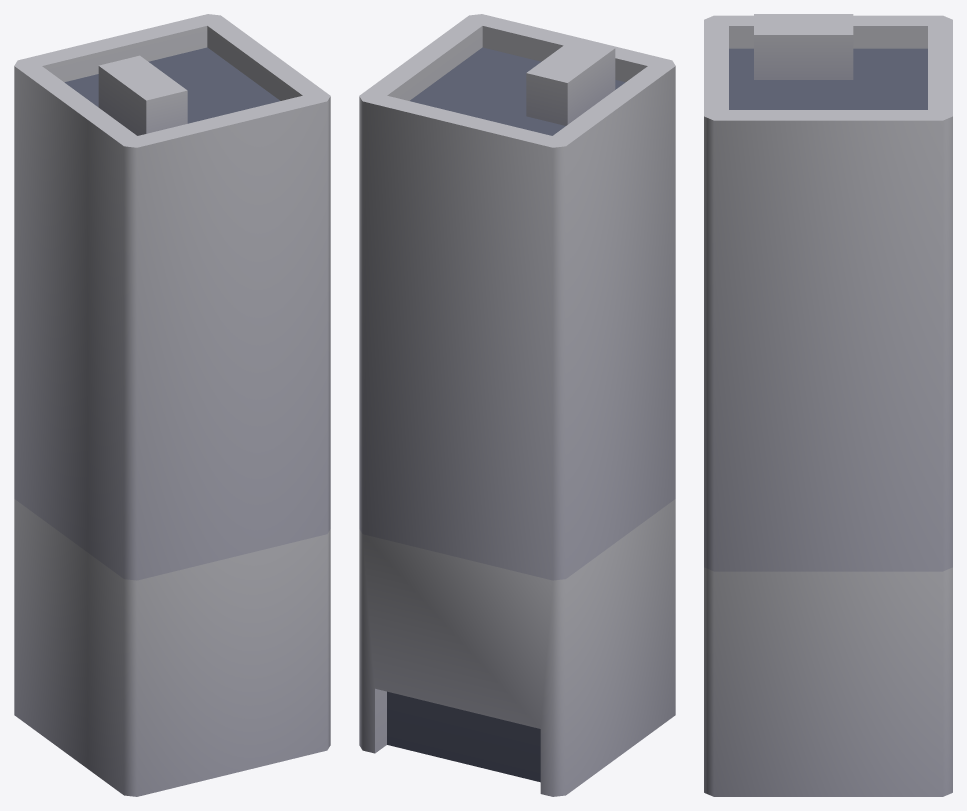
Rendered from low-detail-building-k.glb.
The picture shows the model from 3 angles, left to right: view 1: azimuth 30°, elevation 25°; view 2: azimuth 150°, elevation 25°; view 3: azimuth 270°, elevation 25°; orthographic projection. The views are drawn at different scales.
Visible parts, largest first — view 1: low-detail-building-k; view 2: low-detail-building-k; view 3: low-detail-building-k.
Boxes of the visible parts, box(x1,y1,x2,y2) form: low-detail-building-k: box(14, 14, 330, 796); low-detail-building-k: box(359, 14, 675, 796); low-detail-building-k: box(704, 14, 952, 796).
Size of the model in its own units: 0.5 by 1.55 by 0.5.
